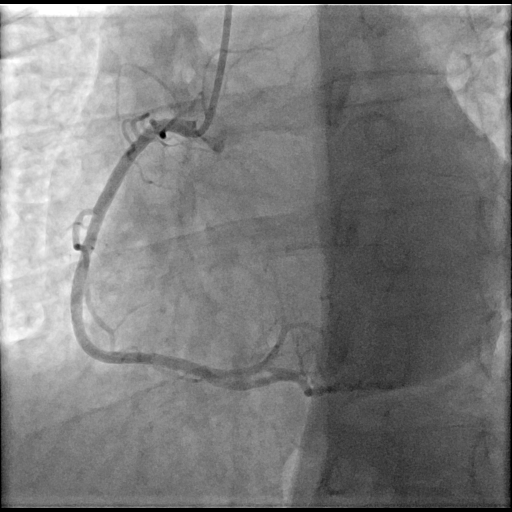RCA: (69, 117, 302, 391)
catherter: (197, 6, 235, 135)
